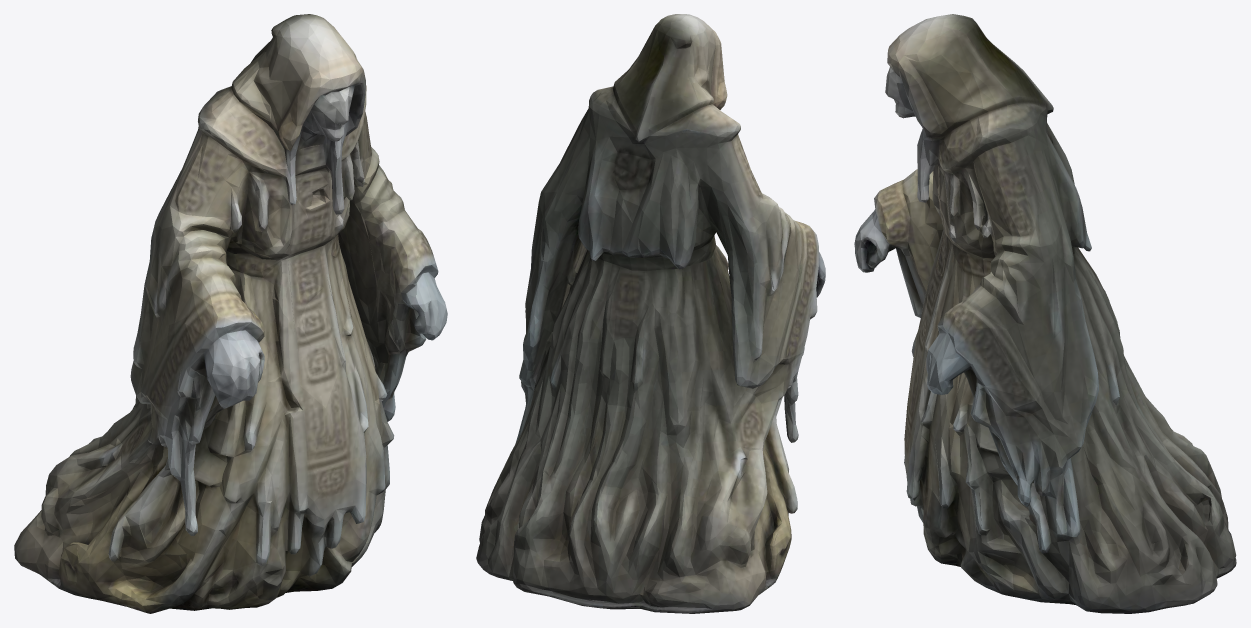
Rendered from dripWraith.glb.
3 renders of one model, left to right at view 1: azimuth 30°, elevation 25°; view 2: azimuth 150°, elevation 25°; view 3: azimuth 270°, elevation 25°, orthographic. The views are drawn at different scales.
Parts seen in each view (by area): view 1: world; view 2: world; view 3: world.
Boxes of the visible parts, x1,y1,x2,y2 form: world: (14, 14, 447, 613); world: (476, 14, 825, 613); world: (854, 14, 1236, 613).
Size of the model in its own units: 0.5798 by 0.9985 by 0.6344.
1 material, 1 textured.
